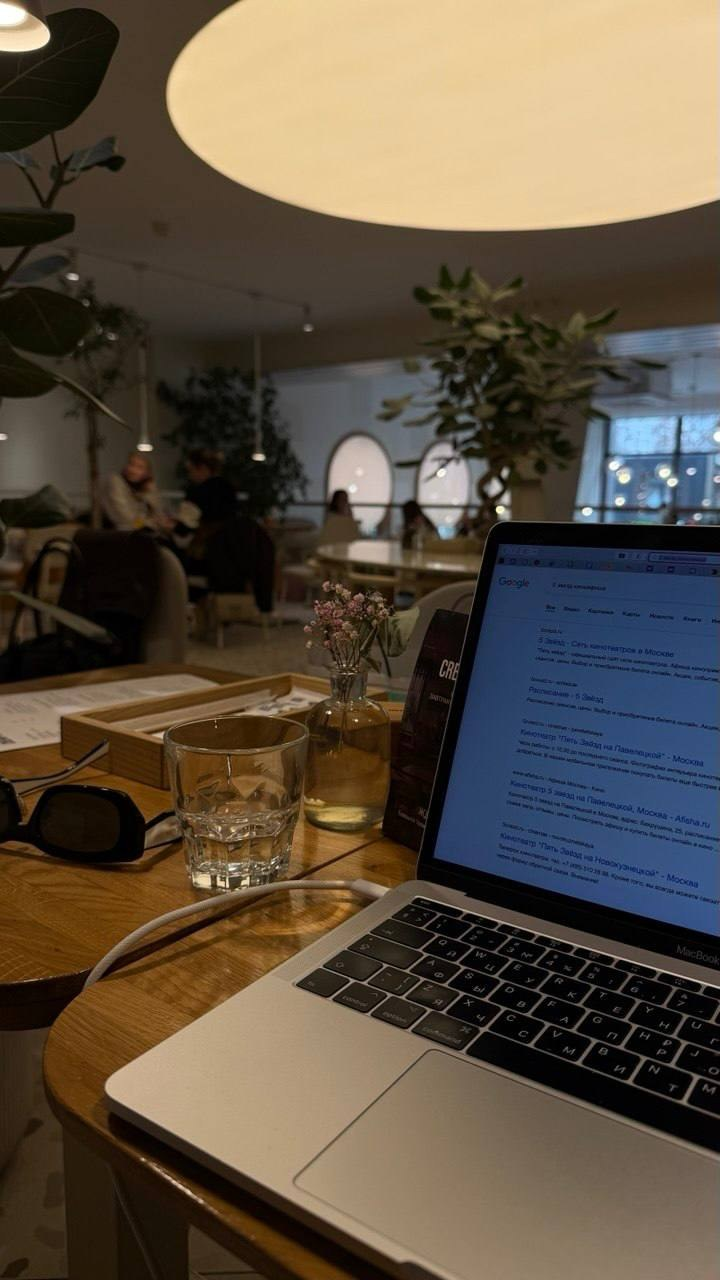laptop: (104, 520, 719, 1277)
